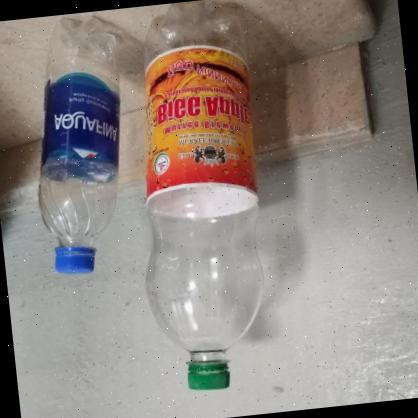bottle: (116, 0, 278, 394), (25, 19, 141, 278)
cap: (188, 352, 234, 392), (51, 240, 98, 276)
label: (140, 44, 257, 199), (39, 76, 129, 174)
